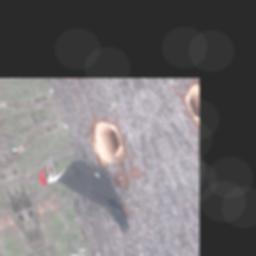Woodpecker: (30, 131, 148, 255)
